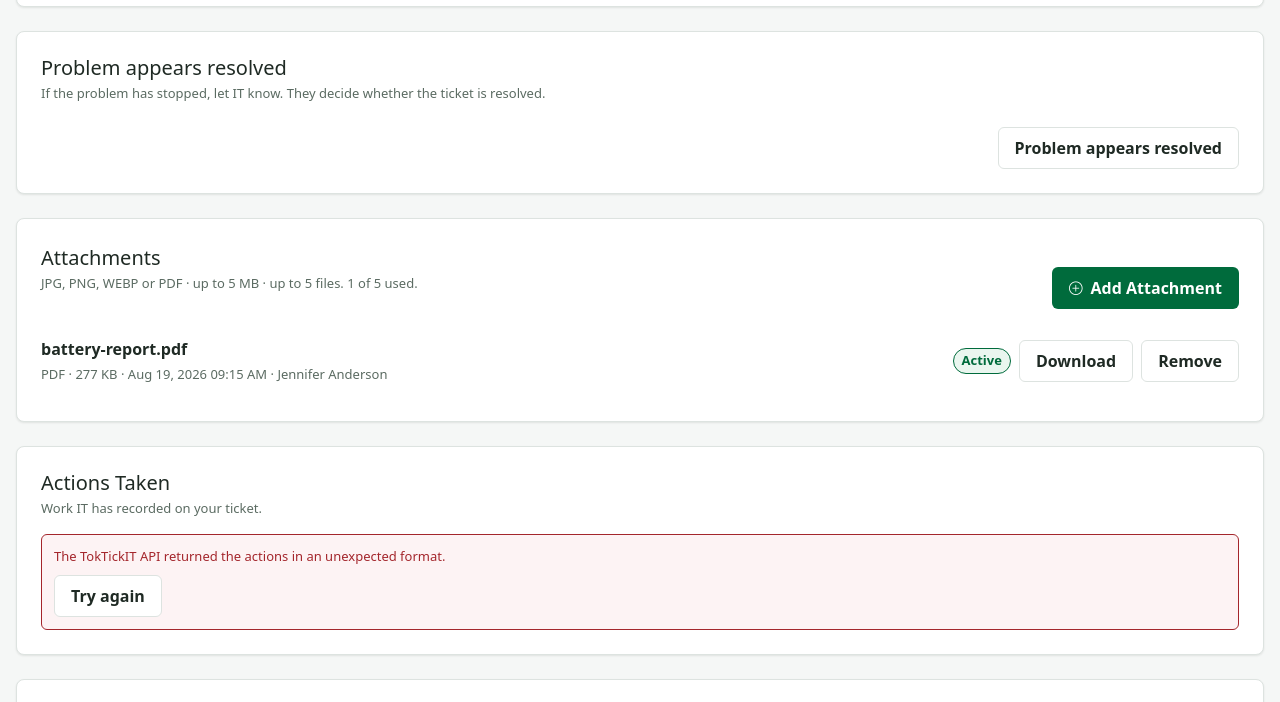
Scenario: a download that fails › marks the row unavailable rather than failing silently
(page scrolled)
Expected: the text "battery-report.pdf" is shown, [41, 338, 187, 360]
Click the button "Download": (1076, 361) [1019, 340, 1133, 382]
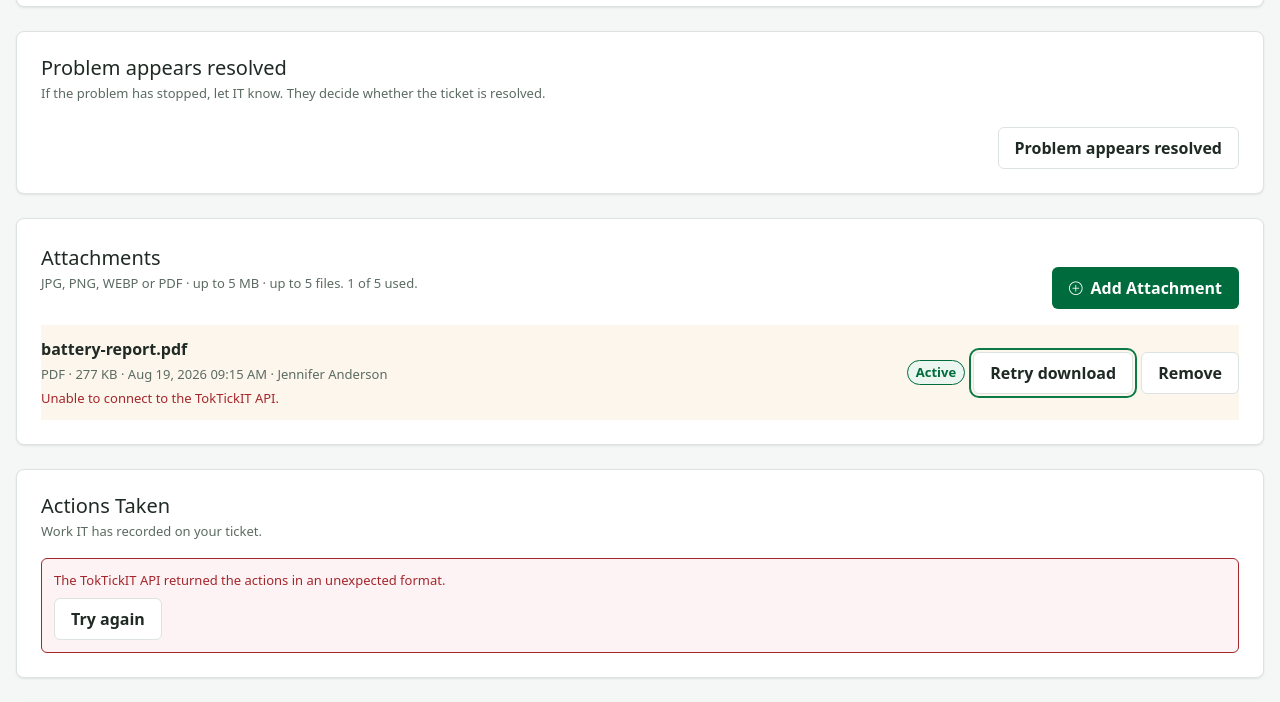
Now the list item with class "tkt-attachment--error" is shown, box [41, 325, 1239, 420]
